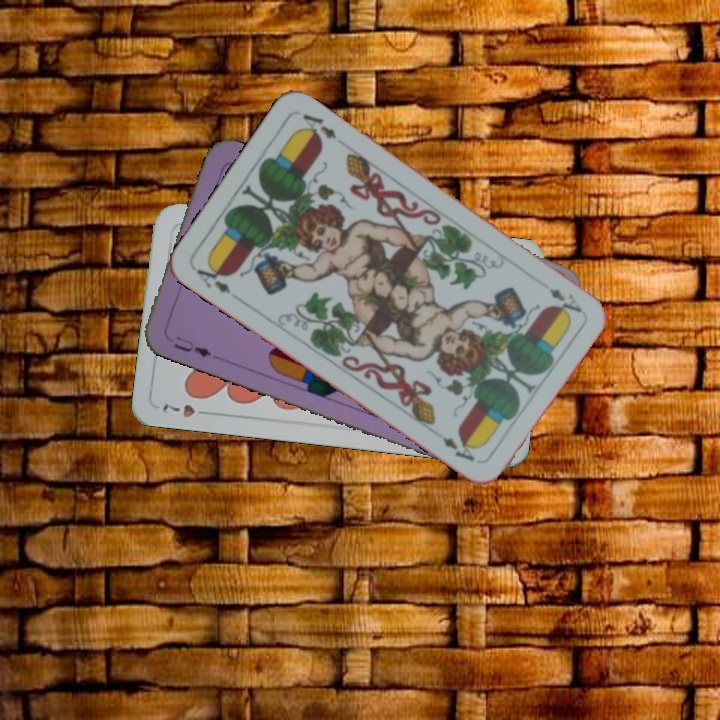EA: (192, 260, 233, 296), (545, 284, 585, 316)
EU: (169, 332, 214, 360)
H7: (158, 399, 215, 421)
